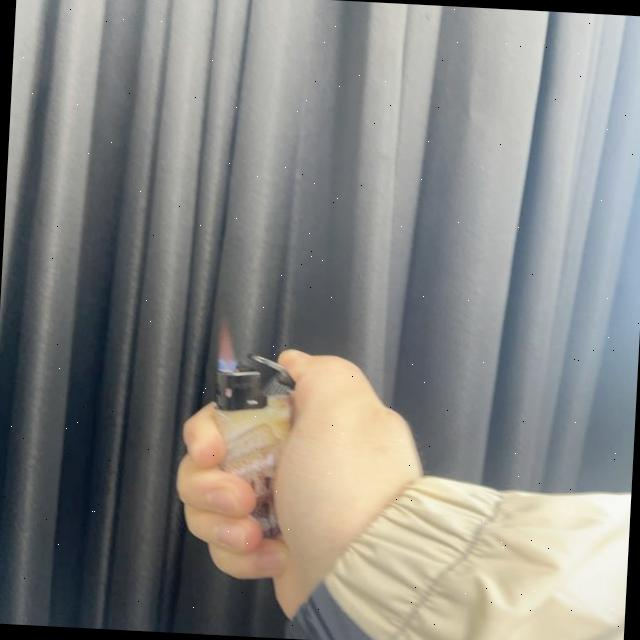fire: (212, 319, 242, 372)
